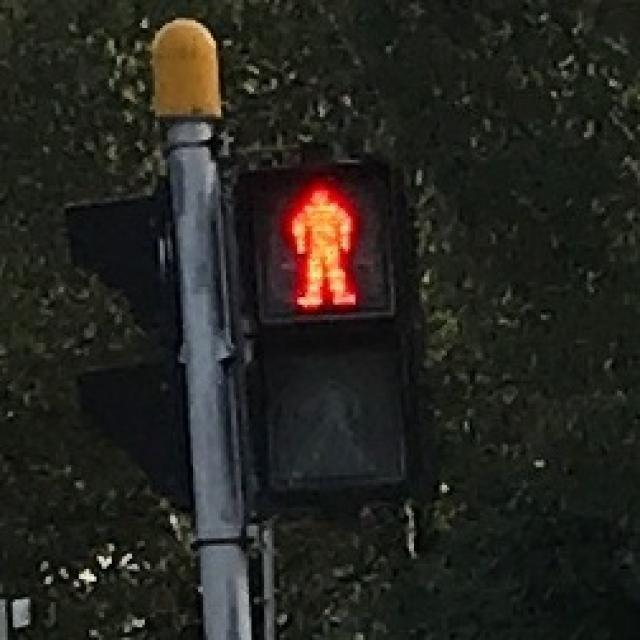red-crossing: (249, 168, 394, 320)
